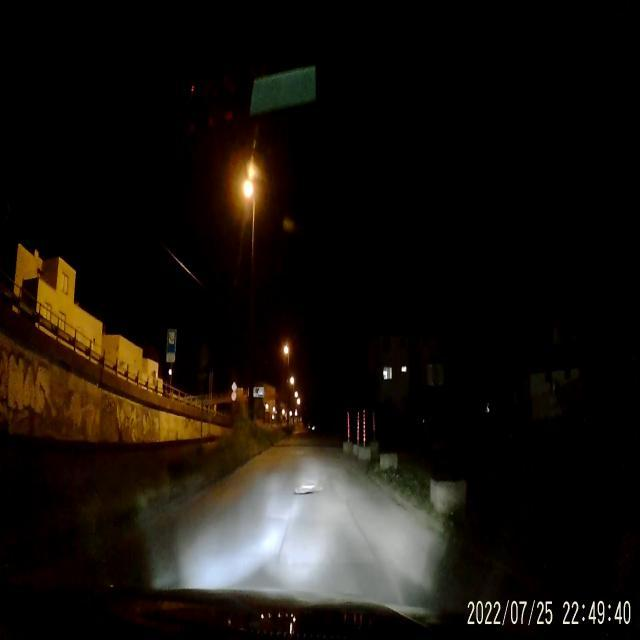Pothole: (293, 478, 321, 498)
